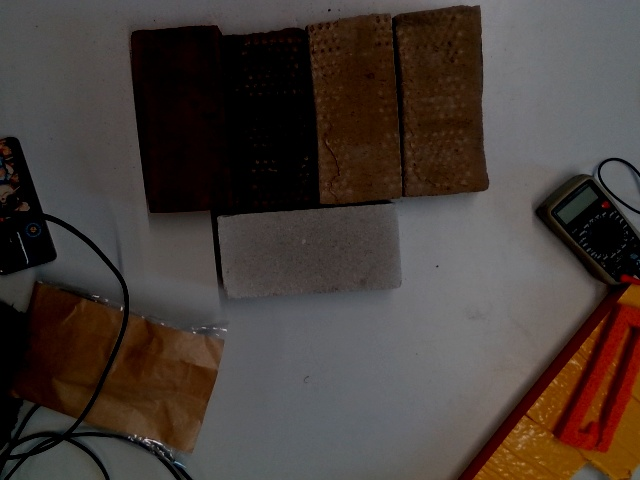brick: (130, 28, 234, 212), (219, 203, 401, 302), (307, 19, 402, 201), (222, 30, 316, 213), (396, 9, 487, 197)
